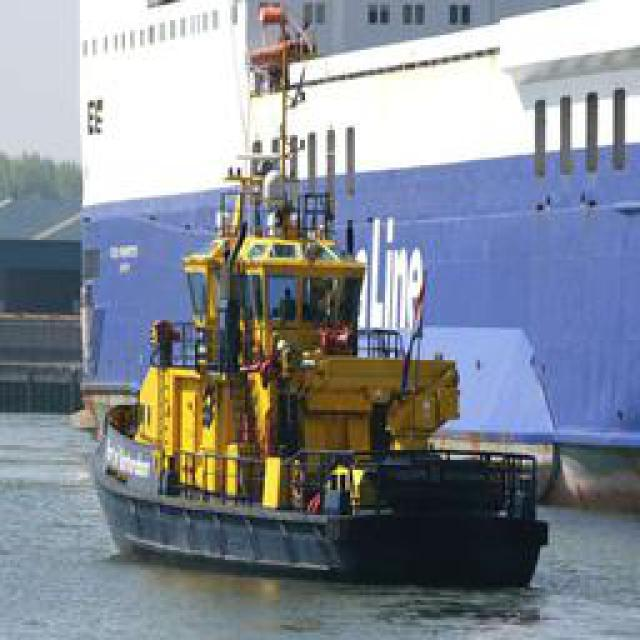Ship: (84, 21, 539, 579)
